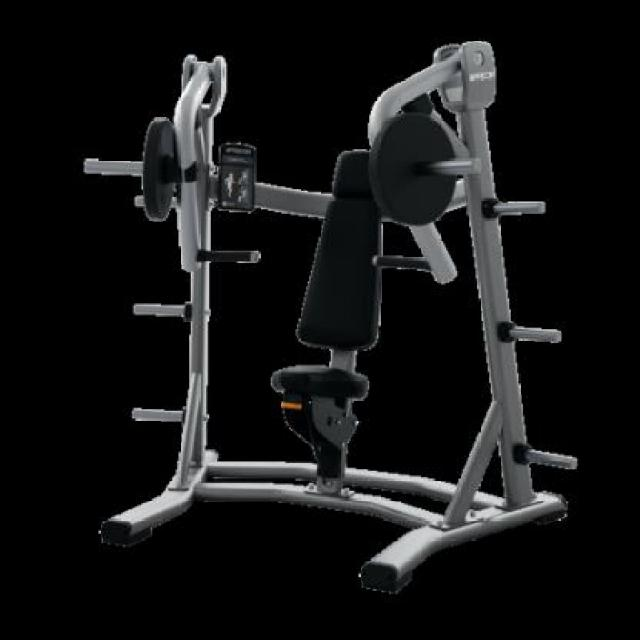Chest Press machine: (70, 36, 588, 602)
